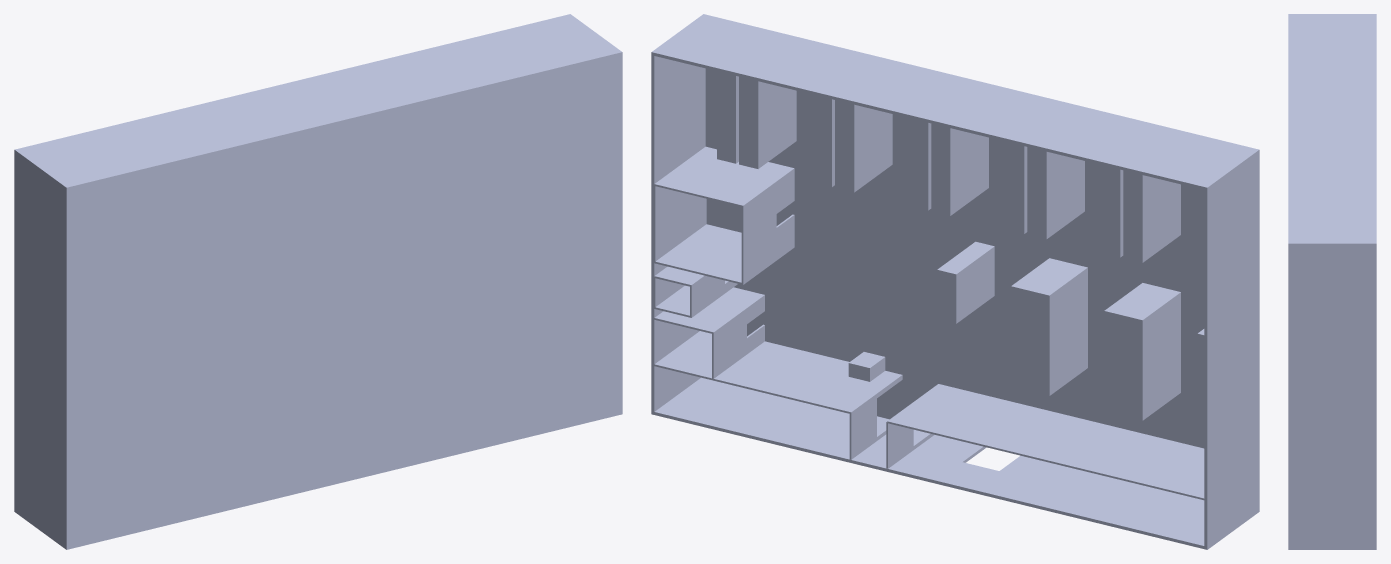
File: warehouse.dae
3 renders of one model, left to right at view 1: azimuth 30°, elevation 25°; view 2: azimuth 150°, elevation 25°; view 3: azimuth 270°, elevation 25°, orthographic. The views are drawn at different scales.
Visible parts, largest first — view 1: node2, node1; view 2: node1, node2, node0; view 3: node1, node2.
Boxes of the visible parts, bbox=[...] form: node2: bbox=[65, 51, 622, 549]; node1: bbox=[14, 14, 621, 548]; node1: bbox=[651, 14, 1258, 549]; node2: bbox=[703, 14, 1259, 511]; node0: bbox=[717, 71, 1204, 433]; node1: bbox=[1290, 14, 1376, 549]; node2: bbox=[1288, 14, 1289, 549].
Size of the model in its own units: 37.6 by 6.1 by 23.41.
